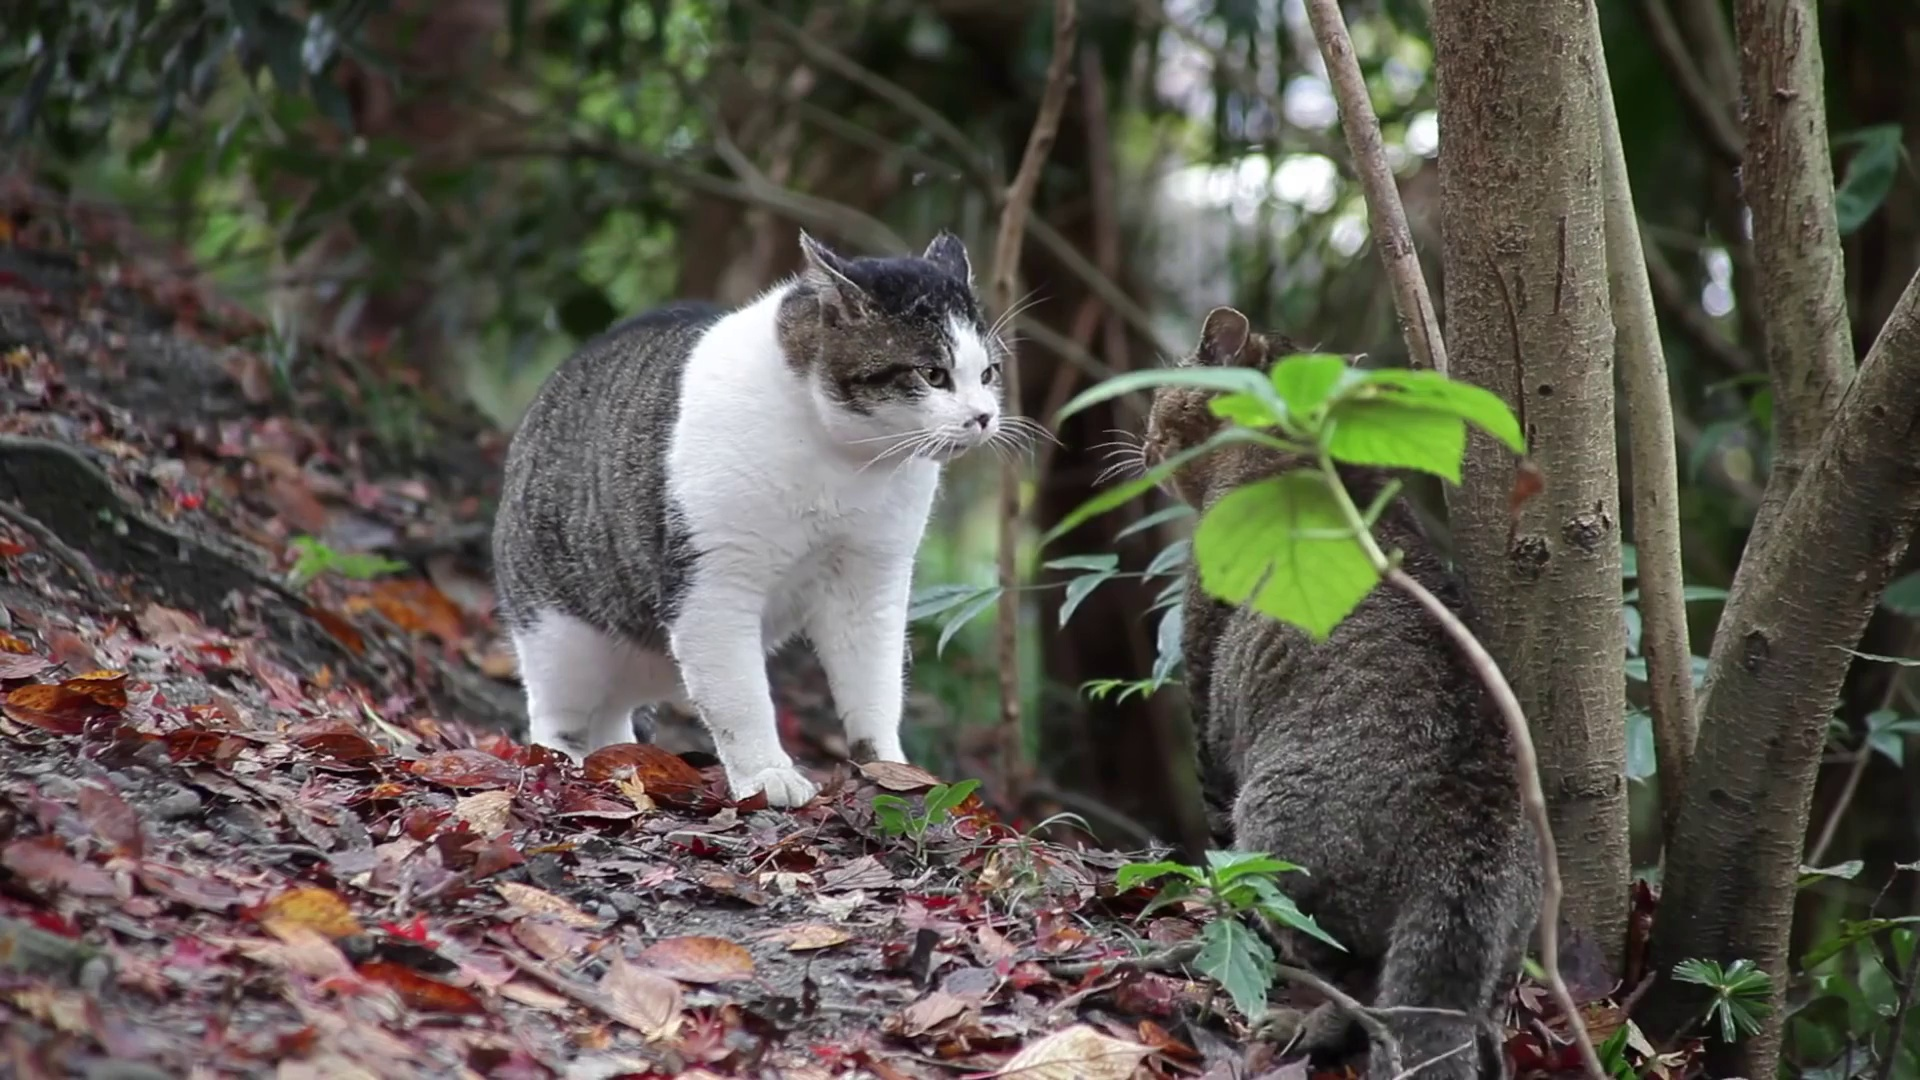black-white: (491, 225, 1001, 807)
pure black: (1139, 305, 1542, 1062)
